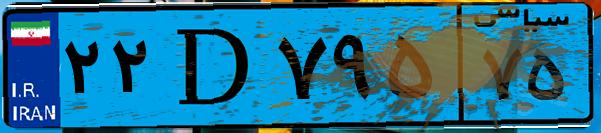2: (57, 26, 110, 100), (110, 28, 158, 98)
5: (385, 28, 445, 110), (525, 38, 570, 115)
7: (270, 28, 330, 110), (475, 38, 525, 113)
9: (330, 28, 385, 110)
D: (158, 12, 270, 120)
